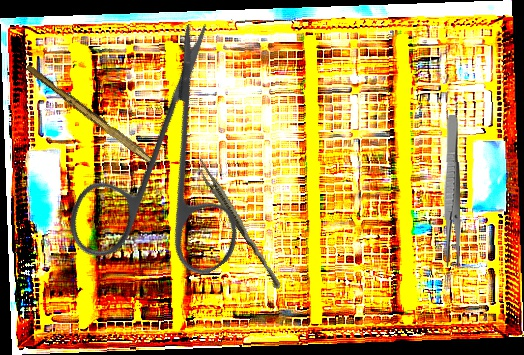Dressing Forceps: (442, 114, 462, 268)
Iris Scissors: (8, 15, 322, 326)
Scalpel Handle: (23, 63, 161, 168)
Tissue Forceps: (190, 156, 287, 291)
